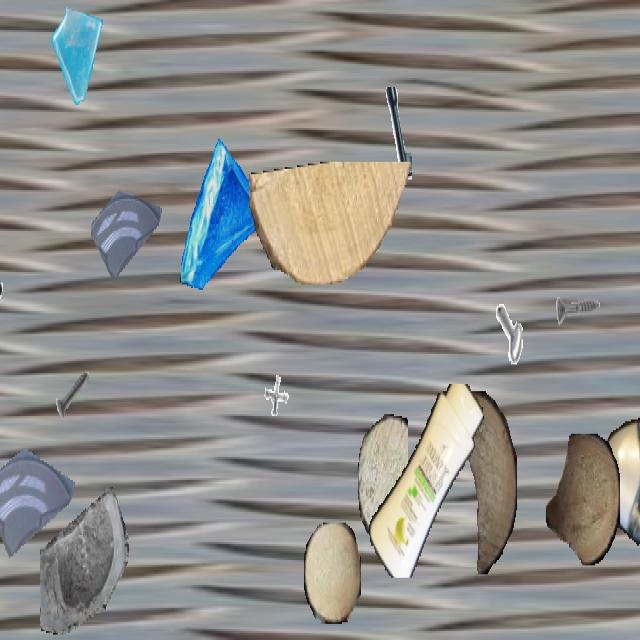glass: (178, 137, 272, 304), (40, 482, 128, 638), (0, 416, 75, 572), (91, 162, 163, 290), (50, 2, 108, 105)
metal: (354, 87, 412, 190), (495, 270, 549, 366), (554, 270, 600, 352), (52, 357, 94, 432), (258, 361, 298, 432), (0, 261, 2, 347)
plastic: (366, 384, 488, 576), (601, 414, 640, 585)
wood: (249, 162, 415, 282), (445, 391, 517, 573), (546, 434, 620, 565), (358, 414, 408, 542), (304, 523, 360, 622)
